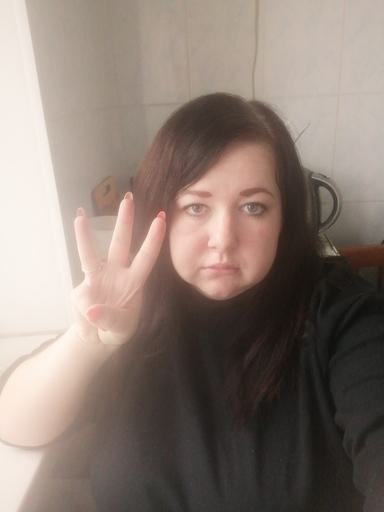three: (66, 186, 172, 349)
